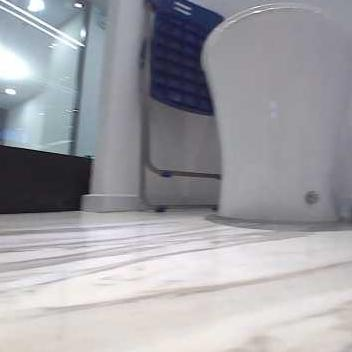metal_chair_foot: (136, 190, 218, 214)
toilet: (199, 1, 351, 221)
